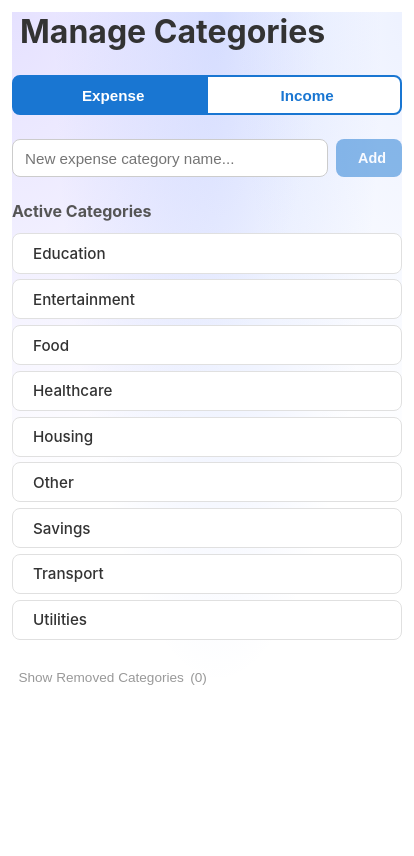
Test: CategoriesView › adds a new category
The image size is (414, 856).
Type "Pets" into the field with class "add-input" at (170, 158), box [12, 139, 328, 177]
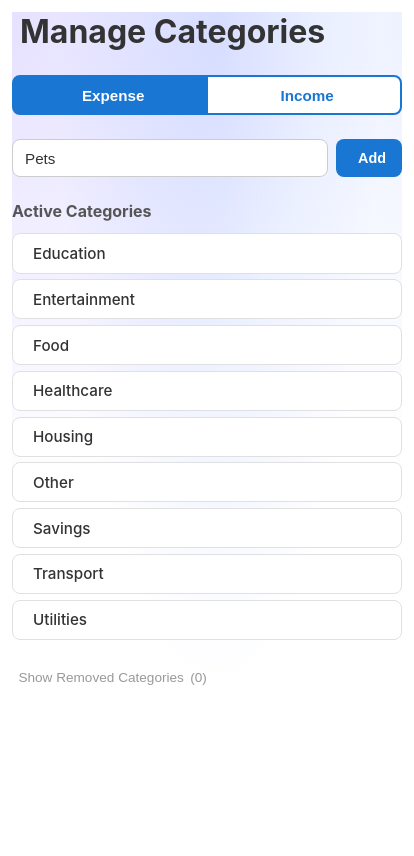
Submit the form with class "add-form", box [12, 139, 402, 177]
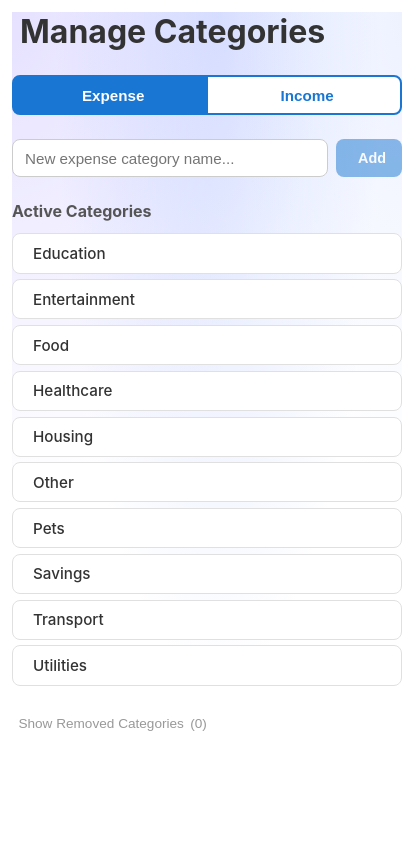
Expected: the text "Pets" is shown, [33, 519, 65, 538]
